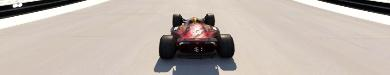Car: (158, 13, 234, 59)
